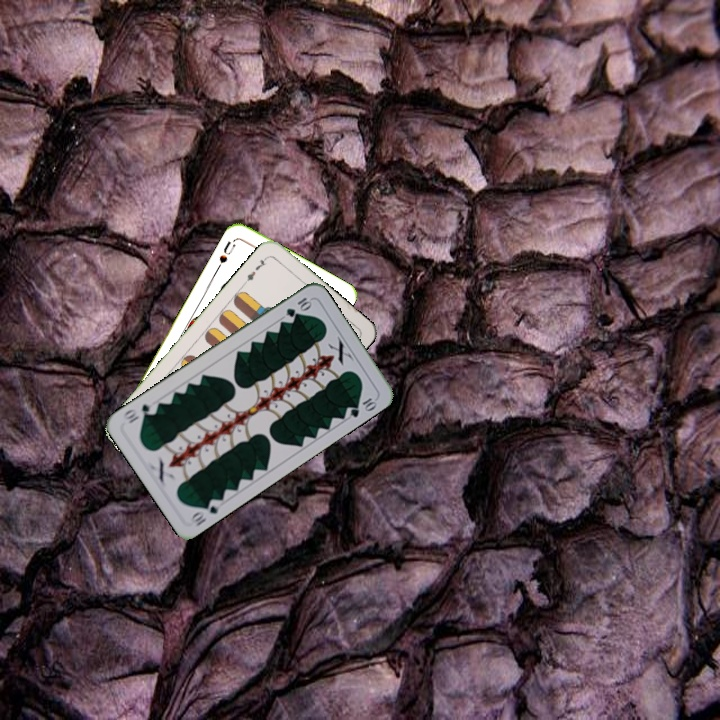E7: (240, 252, 271, 286)
G10: (186, 494, 225, 529), (282, 293, 314, 320)
SU: (213, 235, 239, 272)
